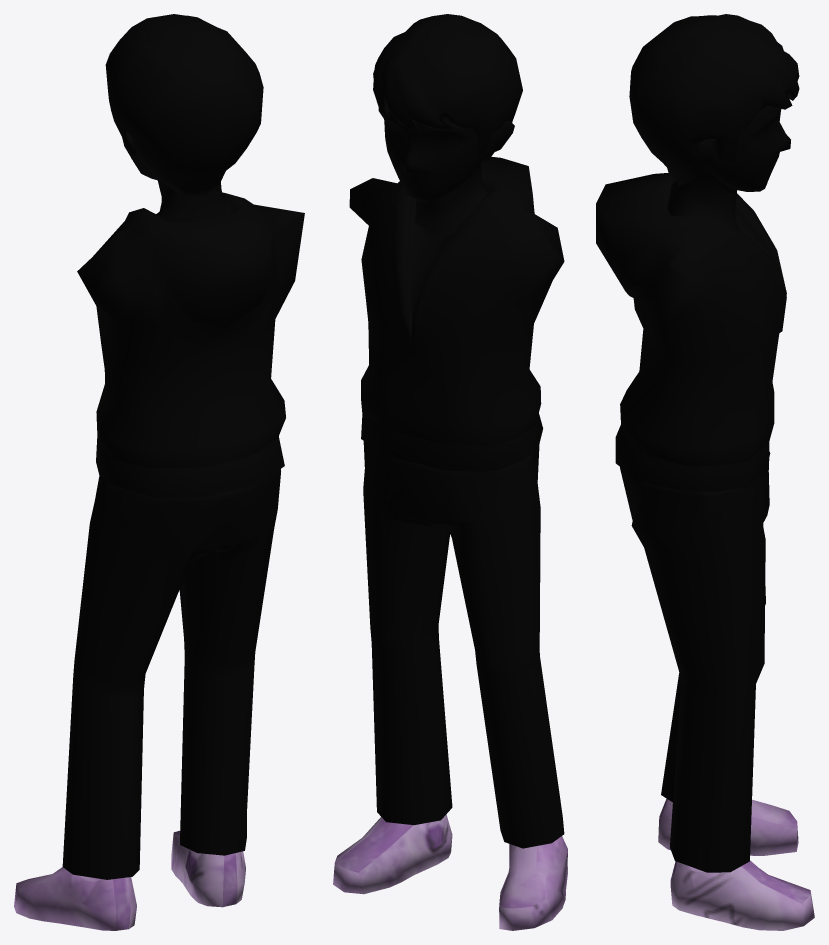
Rendered from s0_Str_Statue_greek_01__1__01.glb.
3 renders of one model, left to right at view 1: azimuth 30°, elevation 25°; view 2: azimuth 150°, elevation 25°; view 3: azimuth 270°, elevation 25°, orthographic. The views are drawn at different scales.
Visible parts, largest first — view 1: node_Str_Statue_greek_01 (1); view 2: node_Str_Statue_greek_01 (1); view 3: node_Str_Statue_greek_01 (1).
Part boxes in pixels (x1,y1,x2,y2): node_Str_Statue_greek_01 (1): (14,14,304,930); node_Str_Statue_greek_01 (1): (333,14,567,930); node_Str_Statue_greek_01 (1): (596,14,814,930).
Size of what is drawn, in the model's own units: 0.5746 by 1.95 by 0.4402.
Materials: 1 (1 with a texture image).
